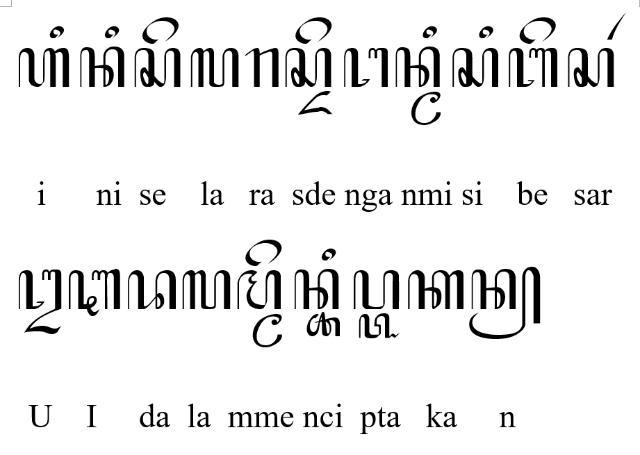-n: (468, 265, 542, 340)
I: (67, 268, 121, 318)
U: (18, 269, 62, 335)
_c: (307, 312, 341, 338)
_d: (296, 90, 334, 116)
_m: (411, 90, 442, 126), (252, 314, 282, 348)
_r1: (605, 12, 627, 40)
_t: (358, 312, 400, 340)
b: (508, 46, 558, 88)
d: (127, 270, 177, 310)
e: (244, 238, 282, 268), (294, 16, 332, 44), (518, 16, 556, 44), (143, 16, 180, 44)
h: (18, 47, 70, 87)
i: (321, 247, 337, 263), (49, 25, 65, 39), (478, 25, 494, 39), (422, 25, 436, 39), (104, 26, 120, 38)
k: (408, 269, 464, 311)
l: (189, 46, 239, 88), (182, 270, 232, 310)
m: (236, 270, 282, 310)
n: (79, 45, 125, 87), (395, 46, 441, 88), (294, 268, 340, 310)
nga: (343, 47, 389, 88)
p: (352, 270, 400, 310)
r: (244, 46, 280, 88)
s: (566, 46, 616, 88), (134, 46, 182, 88), (284, 47, 332, 87), (452, 47, 498, 88)
